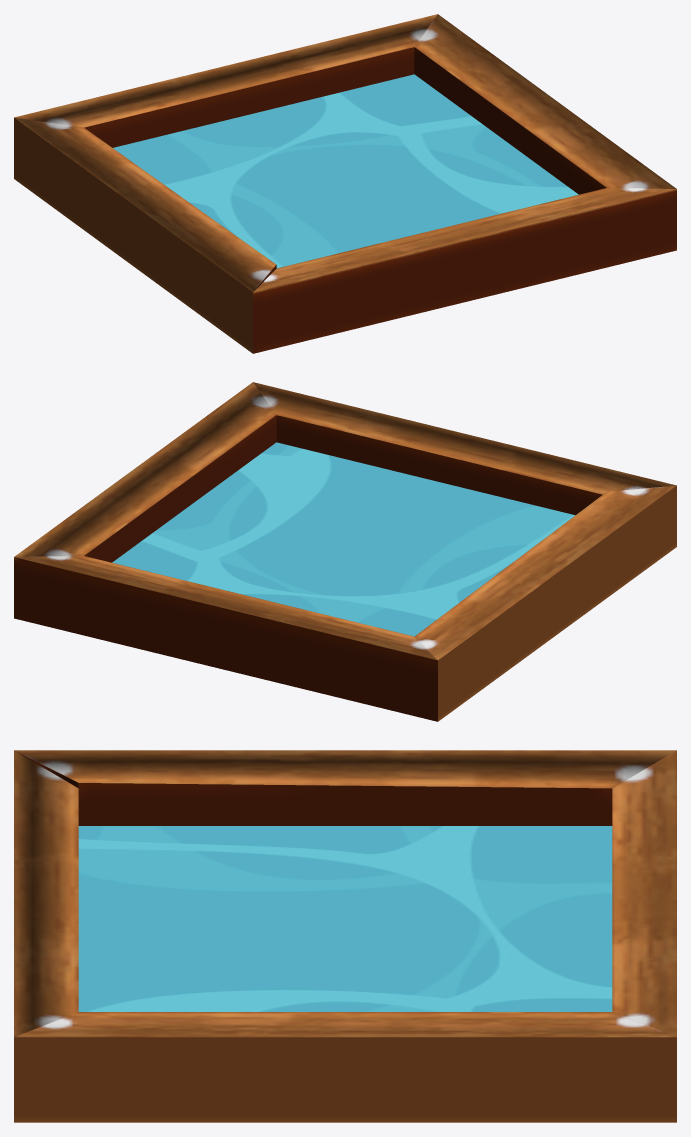
Rendered from slot_waitting.glb.
The picture shows the model from 3 angles, top to bottom: view 1: azimuth 30°, elevation 25°; view 2: azimuth 150°, elevation 25°; view 3: azimuth 270°, elevation 25°; orthographic projection. The views are drawn at different scales.
Parts seen in each view (by area): view 1: slot; view 2: slot; view 3: slot.
Part boxes in pixels (bbox=[...]): slot: bbox=[14, 14, 676, 353]; slot: bbox=[14, 382, 676, 721]; slot: bbox=[14, 750, 676, 1122].
Size of the model in its own units: 1.43 by 0.1976 by 1.39.
Materials: 2 (2 with a texture image).
